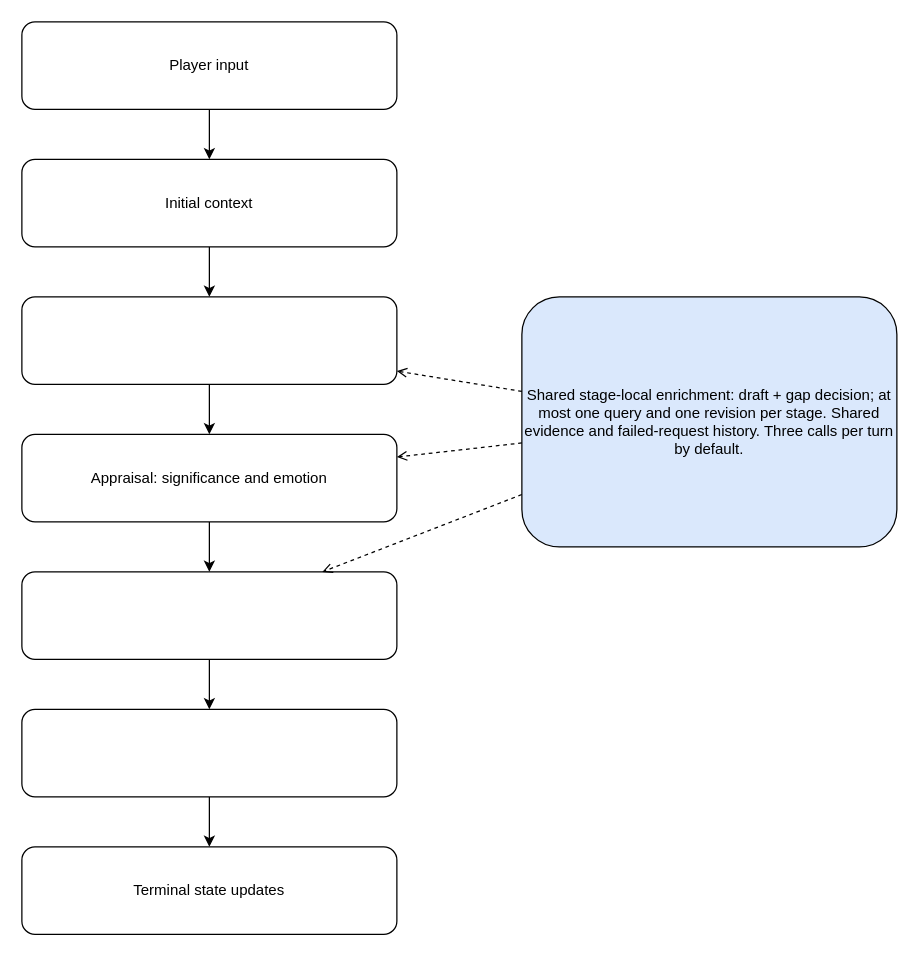
The diagram is 919 pixels wide and 956 high, and some of its shapes have lost their labels. The shapes that lost their labels are listed below. From the top down, each one's centre as x and y in pixels, then its label:
At point (209, 340): "Perception: interpret input".
At point (209, 615): "Strategy: goals and approach".
At point (209, 752): "Response: realize strategy".
